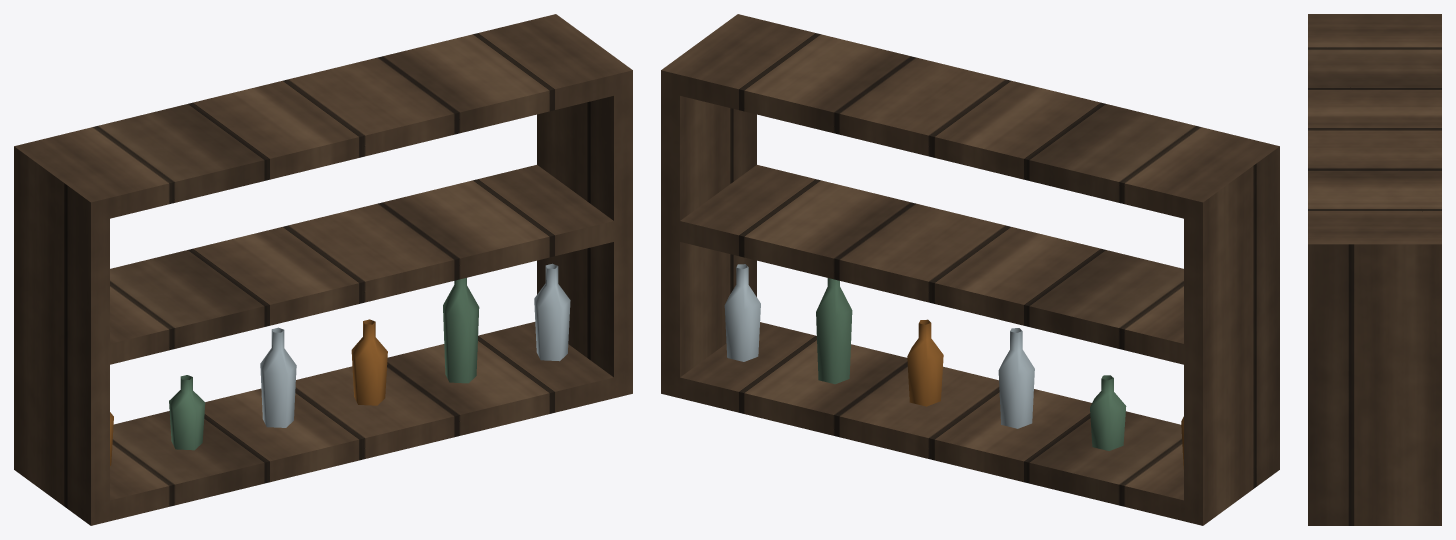
Rendered from Shelf_Small_Bottles_LOD1.gltf.
3 renders of one model, left to right at view 1: azimuth 30°, elevation 25°; view 2: azimuth 150°, elevation 25°; view 3: azimuth 270°, elevation 25°, orthographic. The views are drawn at different scales.
Parts seen in each view (by area): view 1: Shelf_Small_Bottles_LOD1; view 2: Shelf_Small_Bottles_LOD1; view 3: Shelf_Small_Bottles_LOD1.
Part boxes in pixels (x1,y1,x2,y2): Shelf_Small_Bottles_LOD1: [14, 14, 632, 525]; Shelf_Small_Bottles_LOD1: [661, 14, 1279, 525]; Shelf_Small_Bottles_LOD1: [1308, 14, 1441, 525].
Size of the model in its own units: 1.14 by 0.65 by 0.28.
Materials: 4 (4 with a texture image).
